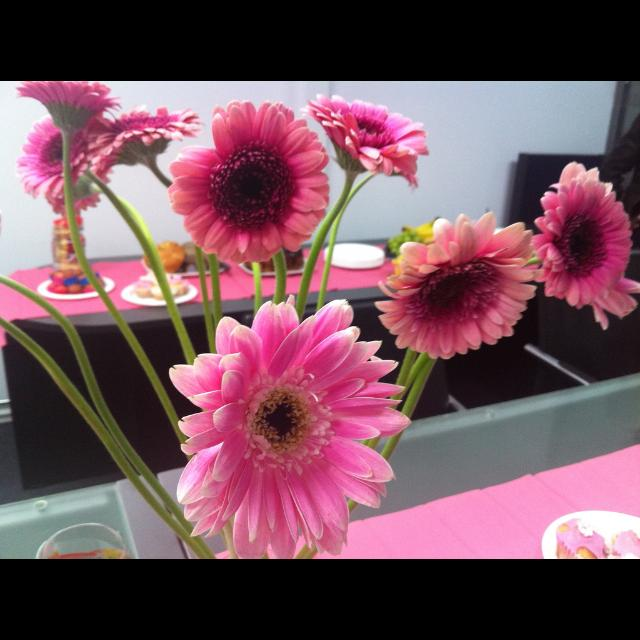Flower: (156, 305, 410, 549), (168, 100, 332, 266), (374, 208, 538, 360), (530, 158, 632, 306), (302, 91, 428, 181), (82, 100, 208, 182), (12, 114, 98, 198), (15, 81, 120, 129), (42, 166, 112, 218), (591, 281, 639, 329)
